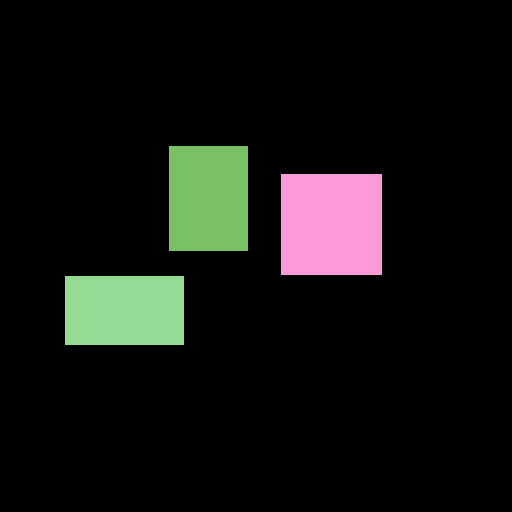rectangle: (169, 146, 247, 250), (65, 276, 183, 344)
square: (281, 174, 381, 274)
